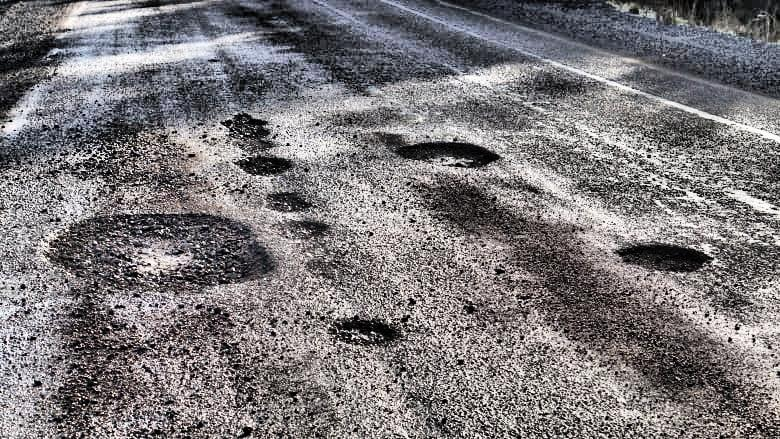pothole: (45, 210, 278, 299), (218, 115, 295, 179), (615, 240, 715, 277), (393, 140, 505, 171), (330, 317, 397, 351), (268, 219, 334, 241), (260, 191, 311, 211)
